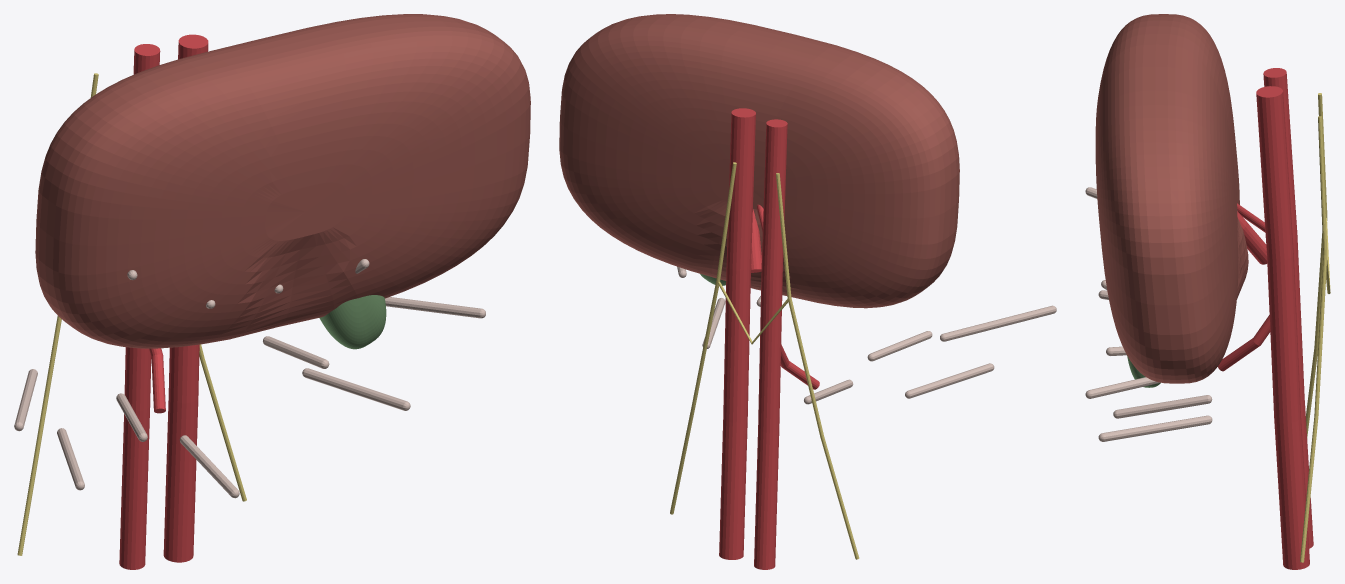
Rendered from dranmar_patient_gallbladder_scenario.glb.
3 renders of one model, left to right at view 1: azimuth 30°, elevation 25°; view 2: azimuth 150°, elevation 25°; view 3: azimuth 270°, elevation 25°, orthographic. The views are drawn at different scales.
Visible parts, largest first — view 1: liver, major_vessels, adhesions, gallbladder, nerves; view 2: liver, major_vessels, nerves, adhesions; view 3: liver, major_vessels, nerves, adhesions.
Part boxes in pixels (x1,y1,x2,y2): liver: (35,14,530,348); major_vessels: (119,34,208,569); adhesions: (14,259,485,498); gallbladder: (319,295,386,349); nerves: (17,73,246,555); liver: (559,14,959,308); major_vessels: (719,108,819,569); nerves: (670,162,859,559); adhesions: (677,266,1056,404); liver: (1095,14,1248,383); major_vessels: (1218,68,1313,569); nerves: (1300,93,1330,562); adhesions: (1085,187,1212,441).
Bounding box in the file's own units: 0.3178 × 0.3104 × 0.1363.
